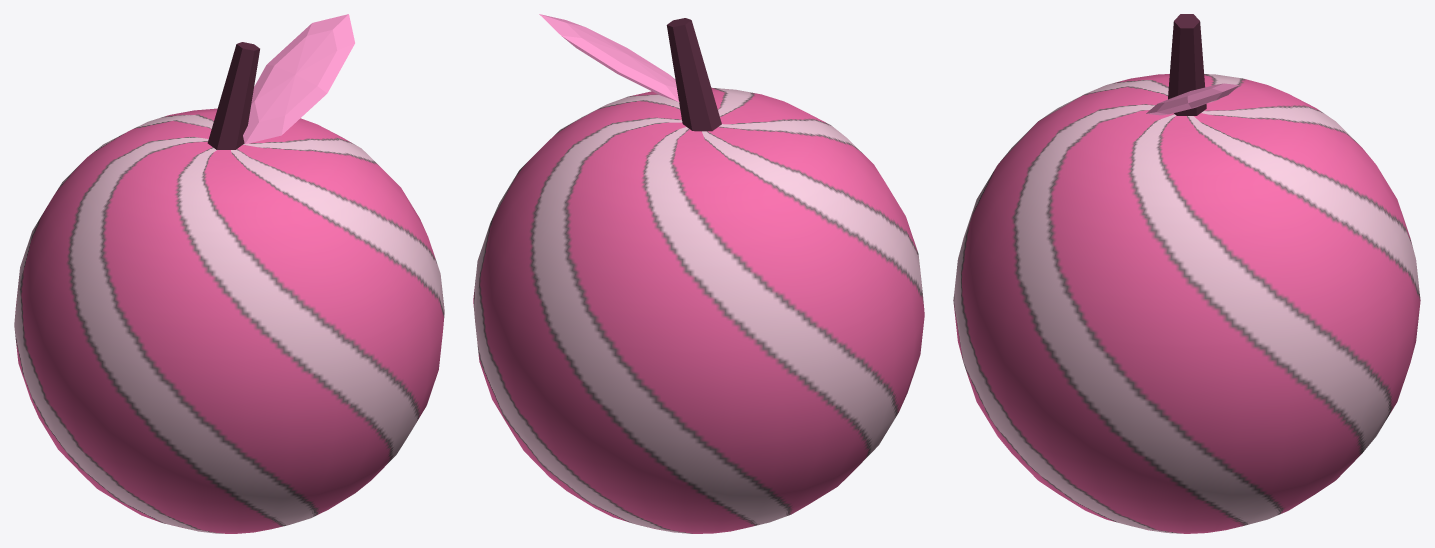
The model's file is Fruit_ItoIto.fbx.
3 views of the same model, side by side, from view 1: azimuth 30°, elevation 25°; view 2: azimuth 150°, elevation 25°; view 3: azimuth 270°, elevation 25° (orthographic). The views are drawn at different scales.
Parts seen in each view (by area): view 1: Fruit_ItoIto; view 2: Fruit_ItoIto; view 3: Fruit_ItoIto.
Boxes of the visible parts, x1=… form: Fruit_ItoIto: x1=14, y1=14, x2=444, y2=533; Fruit_ItoIto: x1=473, y1=14, x2=924, y2=533; Fruit_ItoIto: x1=953, y1=14, x2=1420, y2=533.
Size of the model in its own units: 1.6 by 1.9 by 1.6.
1 material, 1 textured.
